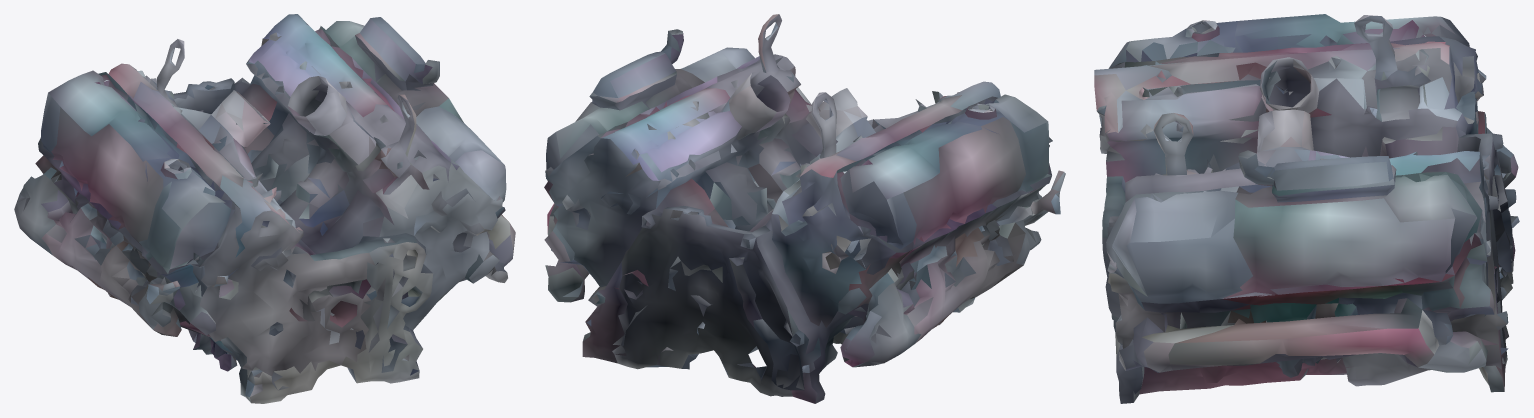
File: eng-d-i6-67.glb
The picture shows the model from 3 angles, left to right: view 1: azimuth 30°, elevation 25°; view 2: azimuth 150°, elevation 25°; view 3: azimuth 270°, elevation 25°; orthographic projection. The views are drawn at different scales.
Visible parts, largest first — view 1: Object_4; view 2: Object_4; view 3: Object_4.
Boxes of the visible parts, x1,y1,x2,y2 form: Object_4: [14, 14, 515, 403]; Object_4: [544, 14, 1065, 403]; Object_4: [1094, 14, 1519, 403].
Size of the model in its own units: 0.7655 by 0.5425 by 0.6528.
Materials: 1 (1 with a texture image).
